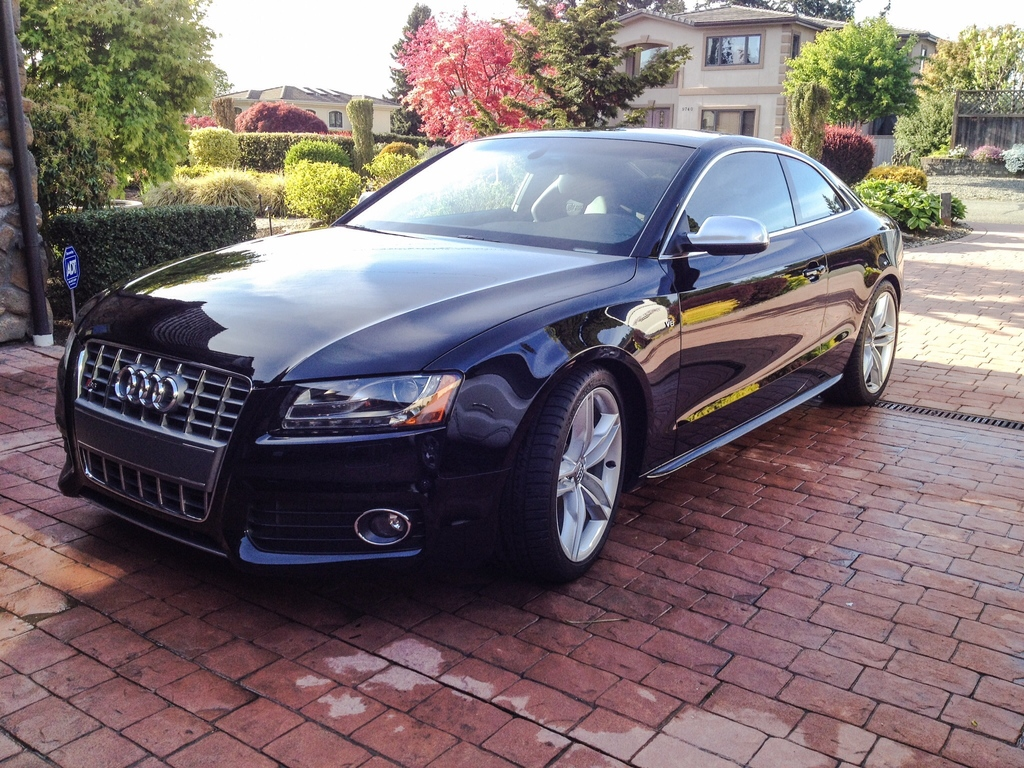Tree: (384, 0, 691, 146), (17, 0, 232, 200), (780, 0, 920, 126), (894, 26, 1024, 156), (699, 0, 859, 16)
